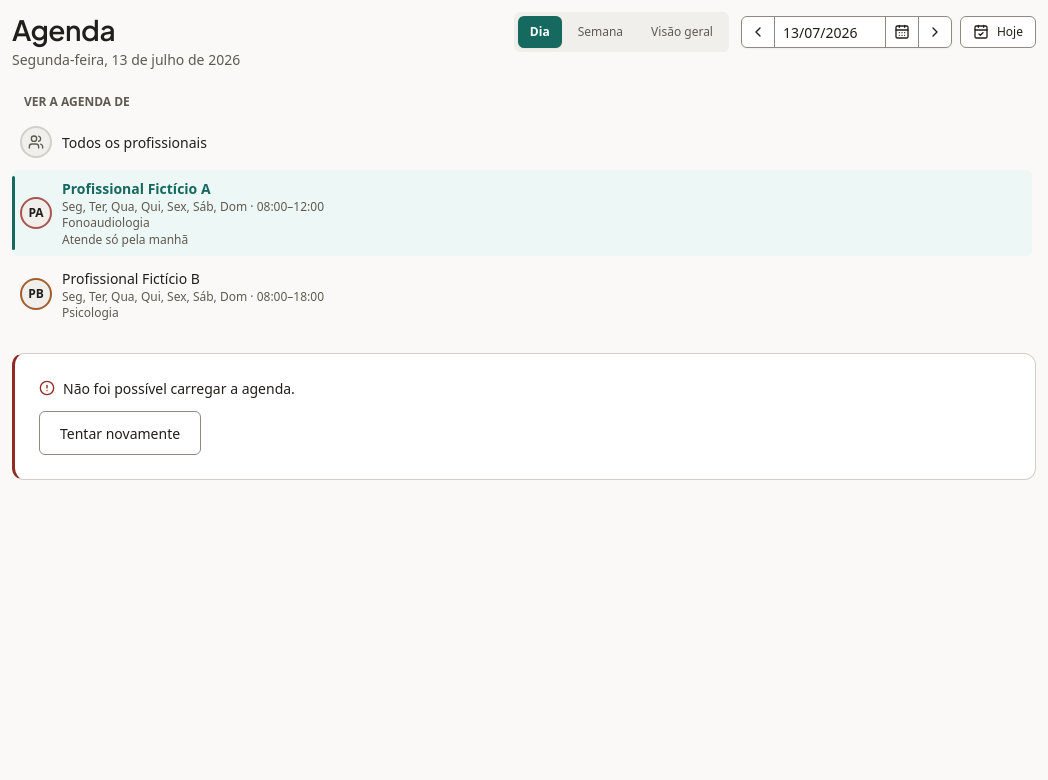
Agenda — os quatro estados › deve recuperar a tela quando quem falhou foi um CATÁLOGO (I-02)
Expected: the message "Não foi possível carregar a agenda. Tentar novamente" is shown, [12,353,1036,480]
What coordinates should you click on to do the following:
click the button "Tentar novamente"
I would click on:
 (120, 433)
Its box is [39,411,201,455].
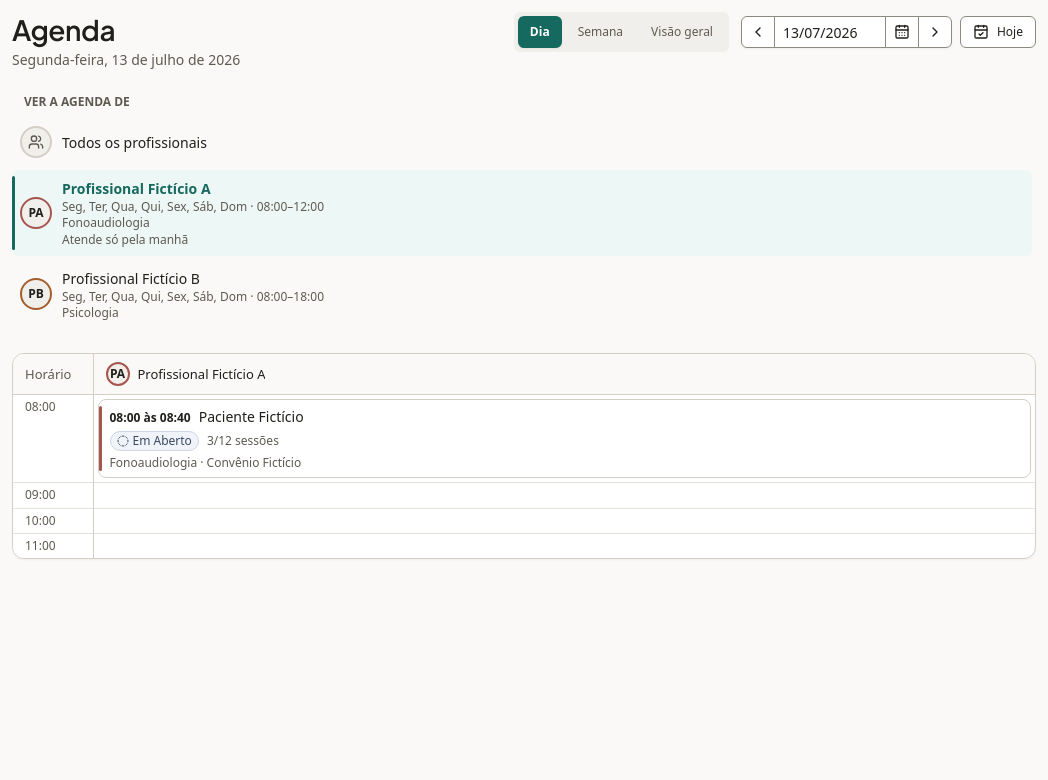
Now the table is shown, box [13,354,1035,558]
